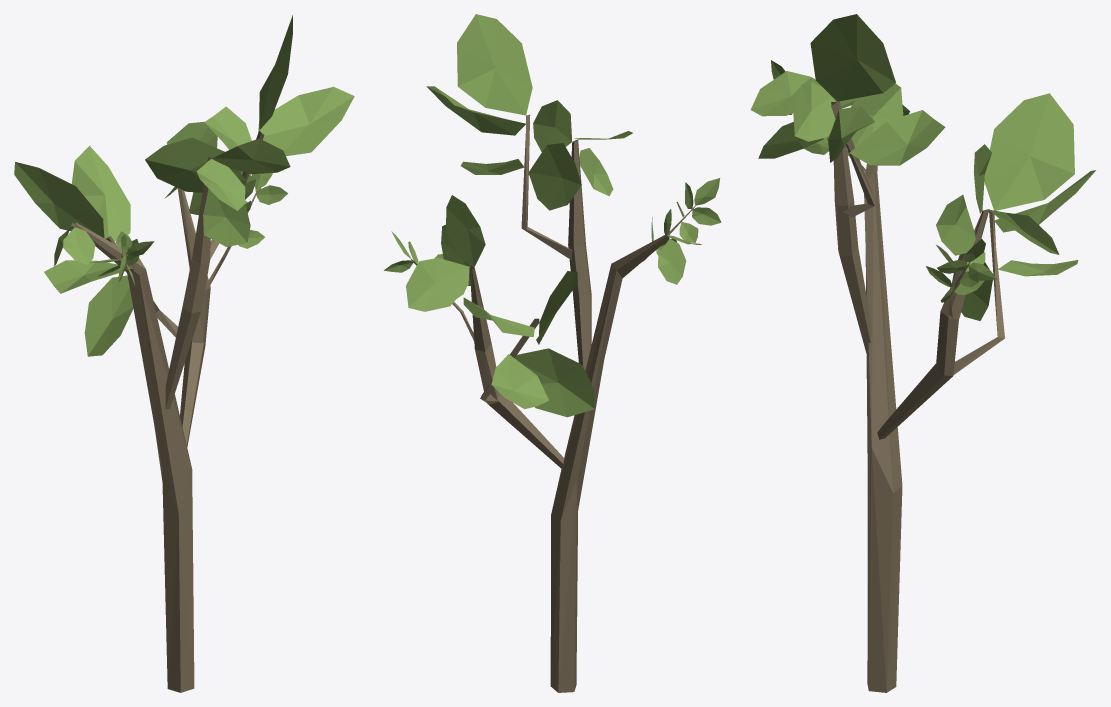
Rendered from Cherry_2_4.fbx.
3 views of the same model, side by side, from view 1: azimuth 30°, elevation 25°; view 2: azimuth 150°, elevation 25°; view 3: azimuth 270°, elevation 25° (orthographic). The views are drawn at different scales.
Visible parts, largest first — view 1: Cherry_2_4; view 2: Cherry_2_4; view 3: Cherry_2_4.
Boxes of the visible parts, box(x1,y1,x2,y2) form: Cherry_2_4: box(14, 15, 354, 692); Cherry_2_4: box(384, 14, 721, 692); Cherry_2_4: box(750, 14, 1095, 692).
Bounding box in the file's own units: 120 × 264 × 114.
